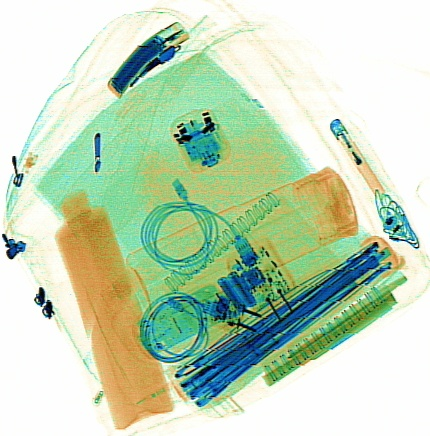lighter: (329, 117, 384, 200)
powerbank: (105, 20, 191, 100)
